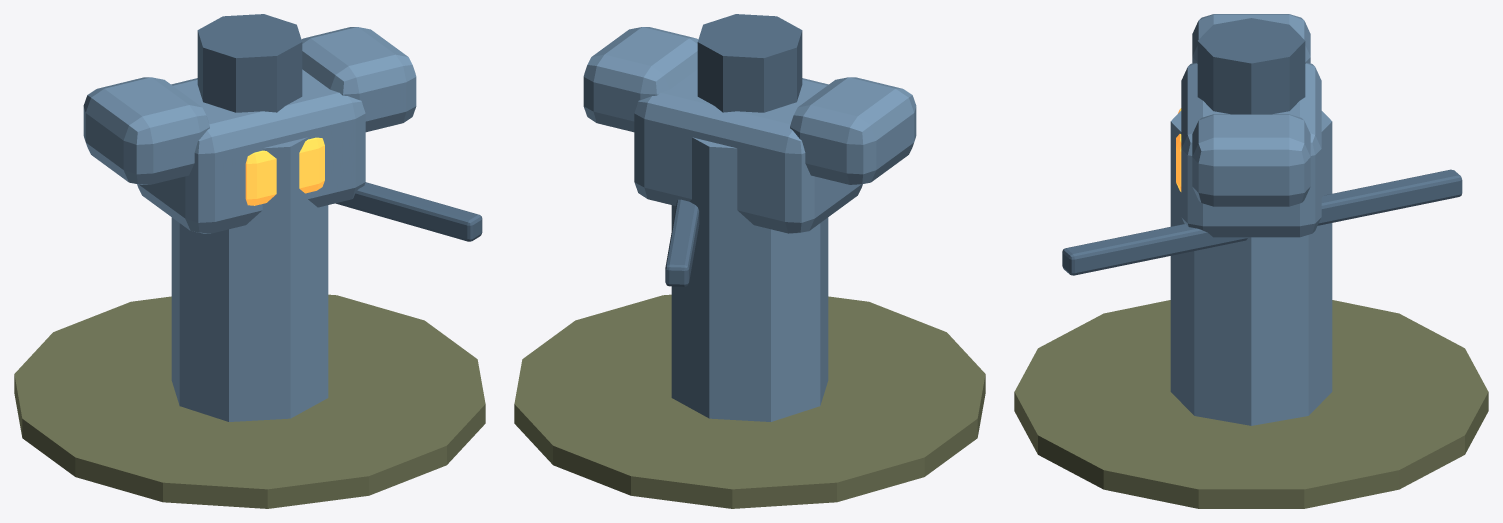
The model's file is dir_commando.glb.
3 renders of one model, left to right at view 1: azimuth 30°, elevation 25°; view 2: azimuth 150°, elevation 25°; view 3: azimuth 270°, elevation 25°, orthographic.
Visible parts, largest first — view 1: dir_commando; view 2: dir_commando; view 3: dir_commando.
Part boxes in pixels (bbox=[...]): dir_commando: bbox=[14, 14, 485, 508]; dir_commando: bbox=[514, 14, 985, 508]; dir_commando: bbox=[1014, 14, 1488, 508].
Size of the model in its own units: 0.429 by 0.3795 by 0.44.
